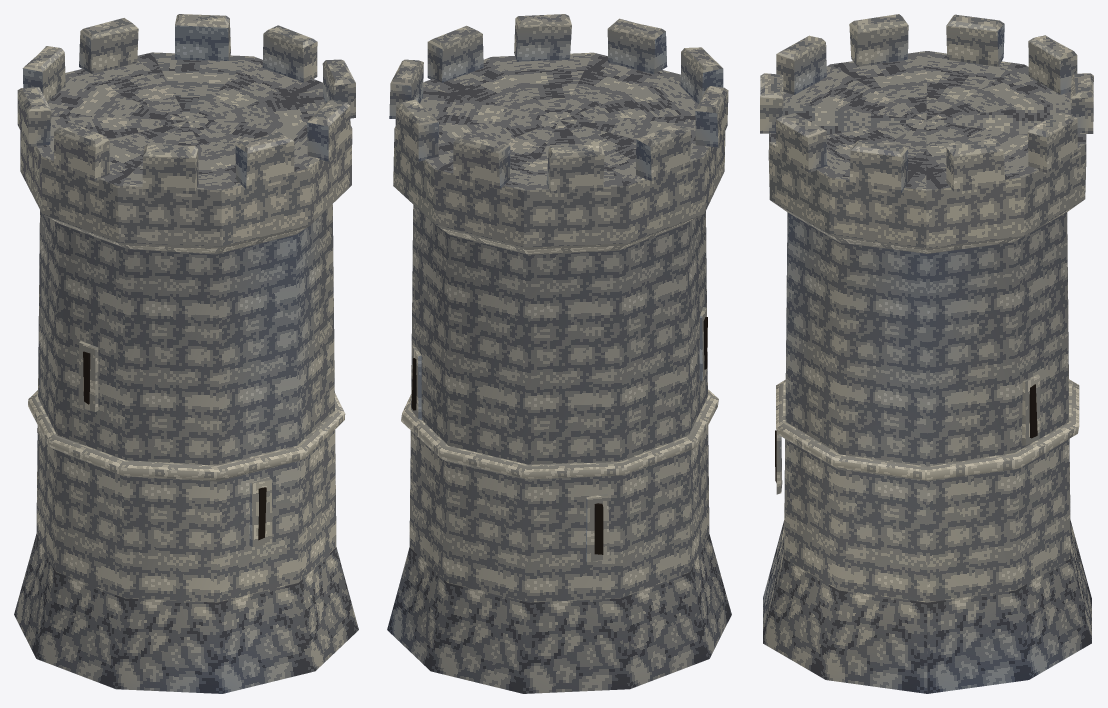
The model's file is cst.tower_round.glb.
3 views of the same model, side by side, from view 1: azimuth 30°, elevation 25°; view 2: azimuth 150°, elevation 25°; view 3: azimuth 270°, elevation 25° (orthographic).
Visible parts, largest first — view 1: kit_drum, kit_top, kit_detail; view 2: kit_drum, kit_top, kit_detail; view 3: kit_drum, kit_top, kit_detail.
Part boxes in pixels (bbox=[...]): kit_drum: bbox=[14, 204, 358, 693]; kit_top: bbox=[17, 14, 355, 254]; kit_detail: bbox=[28, 341, 345, 546]; kit_drum: bbox=[387, 205, 731, 693]; kit_top: bbox=[389, 14, 728, 254]; kit_detail: bbox=[401, 307, 718, 562]; kit_drum: bbox=[763, 212, 1091, 693]; kit_top: bbox=[760, 14, 1093, 253]; kit_detail: bbox=[775, 374, 1079, 494].
Bounding box in the file's own units: 6.9 × 11.85 × 6.66.
Materials: 5 (5 with a texture image).
